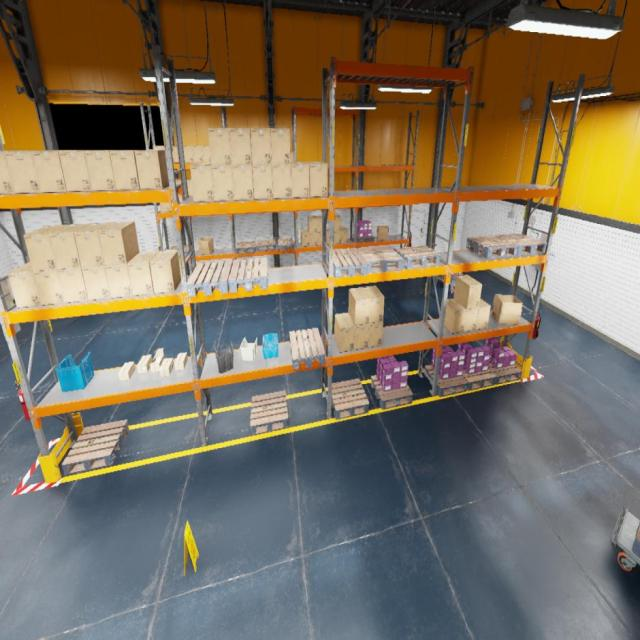box: (4, 150, 54, 193), (24, 225, 69, 271), (49, 223, 91, 269), (32, 150, 76, 192), (98, 221, 140, 265), (74, 222, 113, 267), (8, 261, 42, 308), (59, 150, 96, 191), (128, 250, 160, 296), (149, 249, 181, 294), (135, 150, 169, 189), (85, 150, 117, 190), (110, 150, 140, 190), (34, 270, 66, 305), (57, 268, 88, 303), (439, 298, 466, 334), (190, 162, 214, 202), (453, 275, 482, 308), (82, 266, 110, 300), (492, 294, 522, 325), (348, 286, 371, 326), (105, 264, 132, 298), (208, 128, 232, 166), (229, 128, 252, 165), (211, 165, 234, 201), (453, 298, 478, 331), (334, 313, 355, 352), (363, 286, 385, 323), (306, 161, 328, 197), (250, 128, 272, 164), (270, 128, 291, 164), (232, 165, 254, 199), (349, 315, 369, 350), (253, 165, 273, 199), (291, 162, 310, 197), (272, 164, 291, 199), (0, 151, 15, 194), (476, 299, 490, 329), (368, 322, 384, 347), (150, 348, 165, 372), (118, 362, 136, 381), (159, 358, 174, 377), (197, 238, 214, 254), (137, 355, 152, 373), (175, 353, 188, 370), (176, 178, 188, 196), (192, 146, 203, 162), (163, 146, 174, 162), (377, 226, 389, 240), (184, 146, 194, 162), (202, 146, 211, 162), (326, 228, 334, 245), (301, 230, 309, 247), (308, 230, 316, 246), (308, 217, 316, 232), (341, 227, 348, 243), (334, 215, 341, 231), (315, 216, 322, 232), (186, 178, 192, 195), (160, 202, 170, 212), (173, 146, 179, 162), (334, 231, 341, 244), (317, 233, 322, 246), (153, 146, 164, 149), (178, 196, 182, 203), (176, 178, 180, 184), (169, 202, 171, 212), (291, 152, 293, 161)
pallets: (62, 420, 129, 476), (186, 260, 233, 297), (251, 391, 288, 436), (332, 378, 369, 419), (289, 328, 325, 370), (371, 375, 413, 409), (228, 257, 268, 292), (424, 365, 469, 396), (495, 233, 547, 256), (466, 236, 518, 259), (358, 246, 403, 272), (328, 248, 368, 277), (395, 245, 440, 269), (463, 369, 496, 391), (488, 363, 522, 384), (436, 272, 463, 284), (632, 520, 640, 558), (236, 241, 256, 254), (169, 245, 189, 257), (256, 240, 276, 251), (278, 238, 294, 250), (354, 234, 374, 242)
